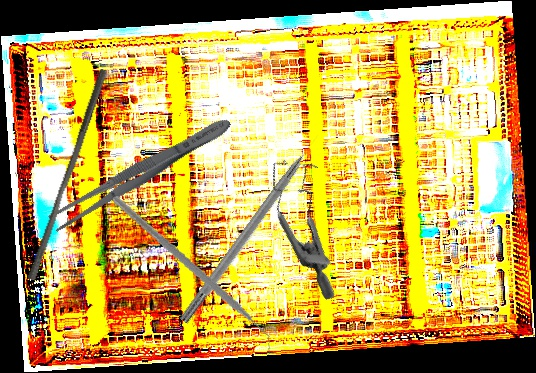Chopper: (91, 195, 292, 356)
Dressing Forceps: (46, 110, 236, 236)
Hook Surgical: (178, 132, 325, 326)
Pusher: (26, 65, 108, 284)
Speculum: (229, 143, 391, 302)
